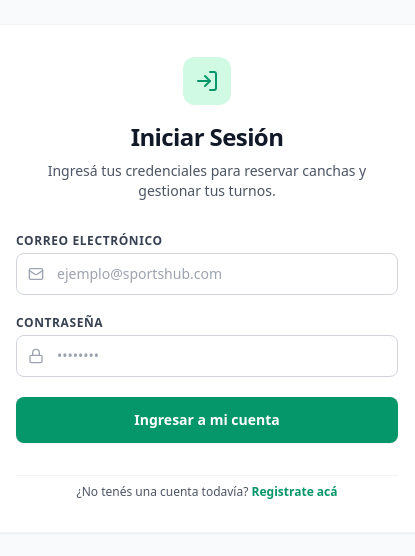
Test: LoginPage › muestra mensaje de error cuando la API rechaza las credenciales
Type "cliente@sportshub.com" into the field labelled "Correo Electrónico" at (207, 274), box [16,252,398,294]
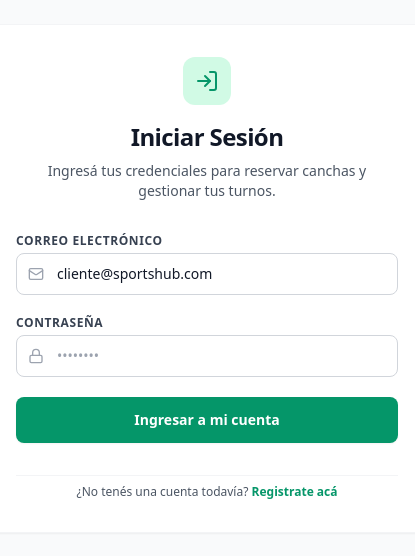
Type "password-erroneo" into the password field labelled "Contraseña" at (207, 356), box [16,334,398,376]
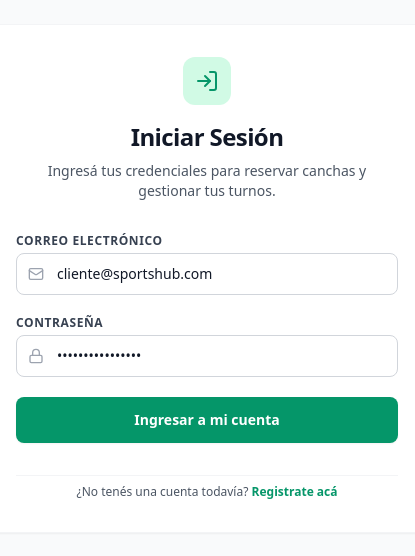
Click the button "Ingresar a mi cuenta" at (207, 420), box [16,396,398,442]
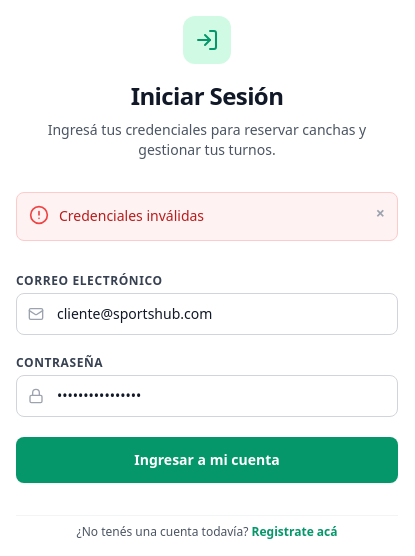
Expected: the text "Credenciales inválidas" is shown, [59,206,204,225]
